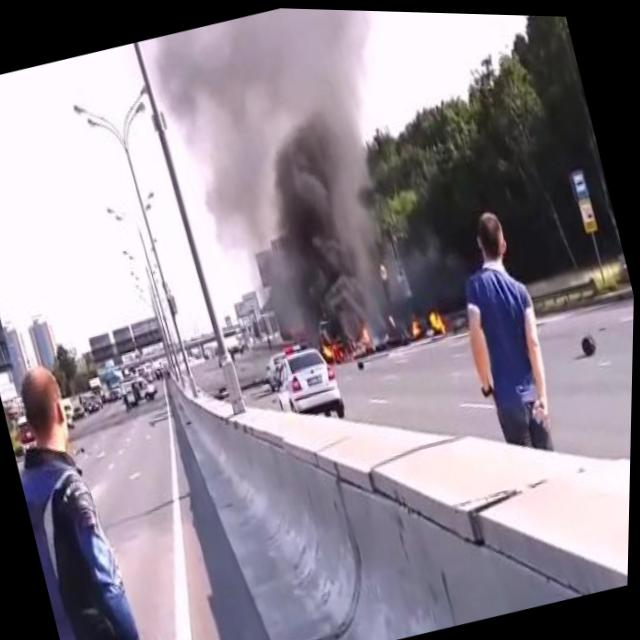fire: (319, 319, 379, 365), (405, 301, 452, 340)
